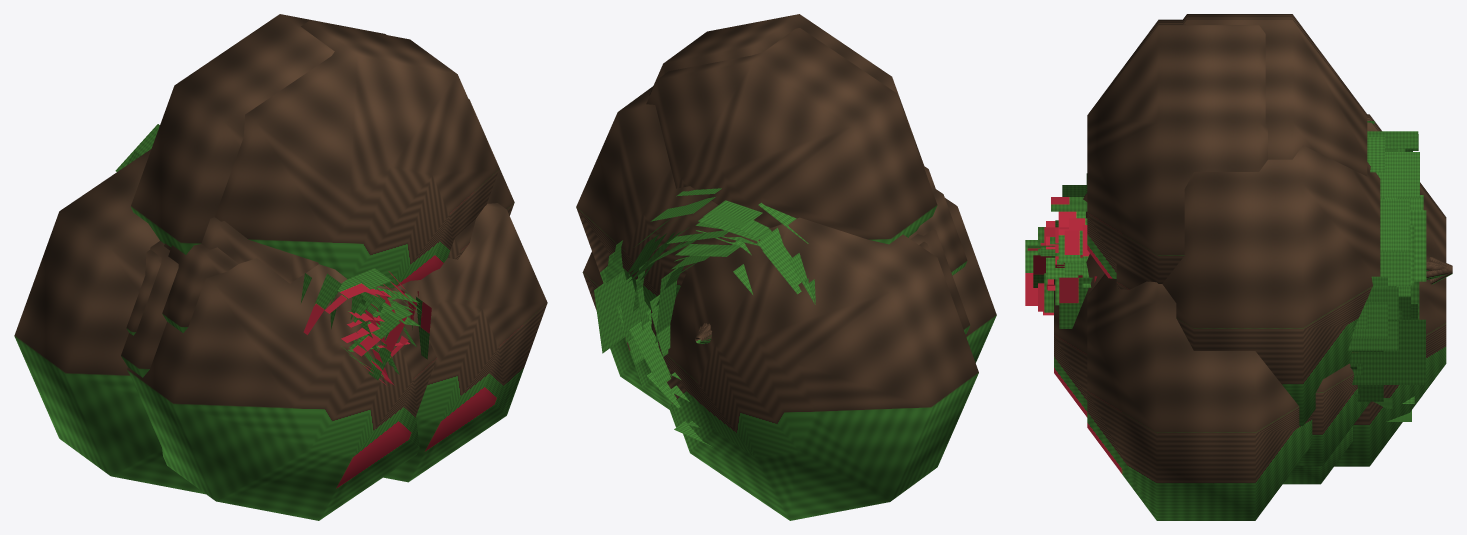
The model's file is veg_shrub_rose_01.glb.
3 views of the same model, side by side, from view 1: azimuth 30°, elevation 25°; view 2: azimuth 150°, elevation 25°; view 3: azimuth 270°, elevation 25° (orthographic). The views are drawn at different scales.
Parts seen in each view (by area): view 1: veg_shrub_rose_01; view 2: veg_shrub_rose_01; view 3: veg_shrub_rose_01.
Part boxes in pixels (left/top/right/bottom): veg_shrub_rose_01: left=14, top=14, right=547, bottom=520; veg_shrub_rose_01: left=576, top=14, right=996, bottom=520; veg_shrub_rose_01: left=1025, top=14, right=1452, bottom=520.
Size of the model in its own units: 1.48 by 1.49 by 1.2.
Materials: 1 (1 with a texture image).
